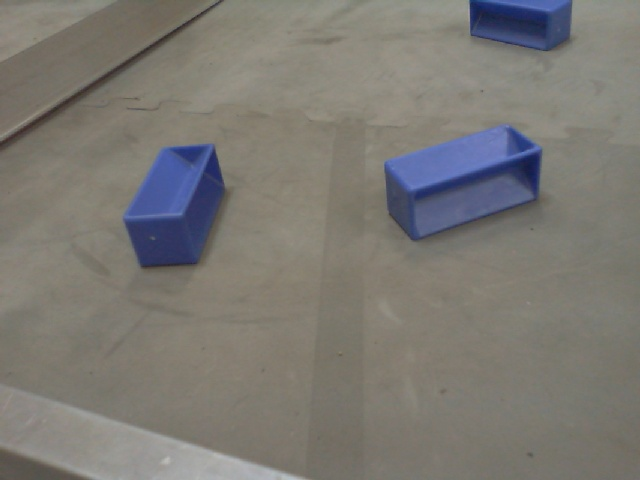BlueSample: (380, 123, 545, 245), (120, 142, 228, 272), (467, 1, 574, 52)
